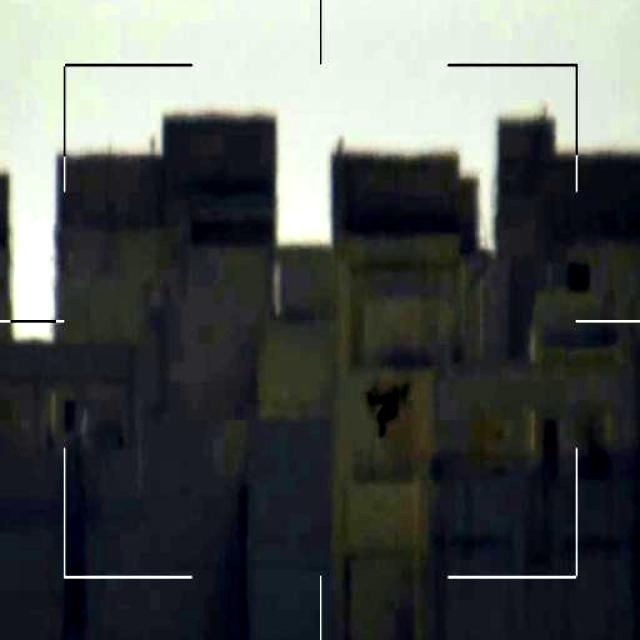bird: (359, 378, 419, 436)
